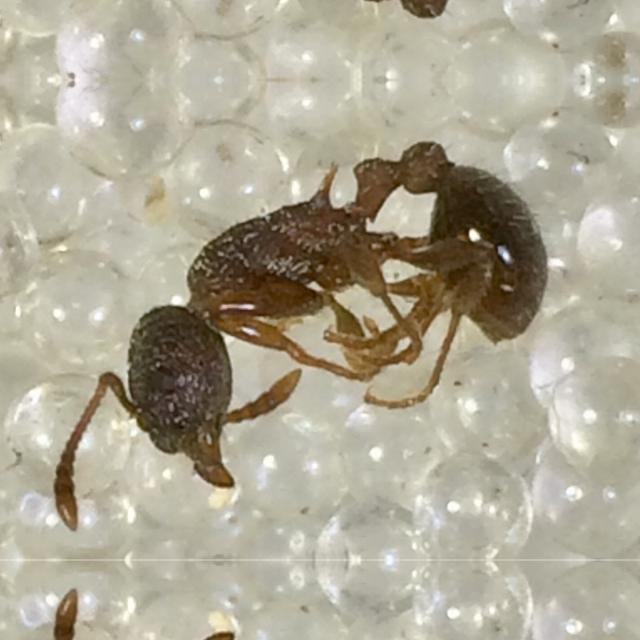Myrmica: (60, 128, 614, 494)
